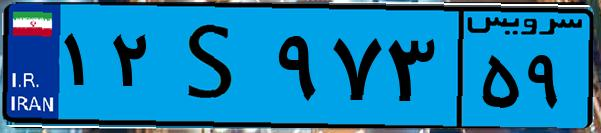1: (57, 26, 110, 100)
2: (110, 28, 158, 98)
3: (385, 28, 445, 110)
5: (475, 38, 525, 113)
7: (330, 28, 385, 110)
9: (270, 28, 330, 110), (525, 38, 570, 115)
S: (158, 12, 270, 120)
